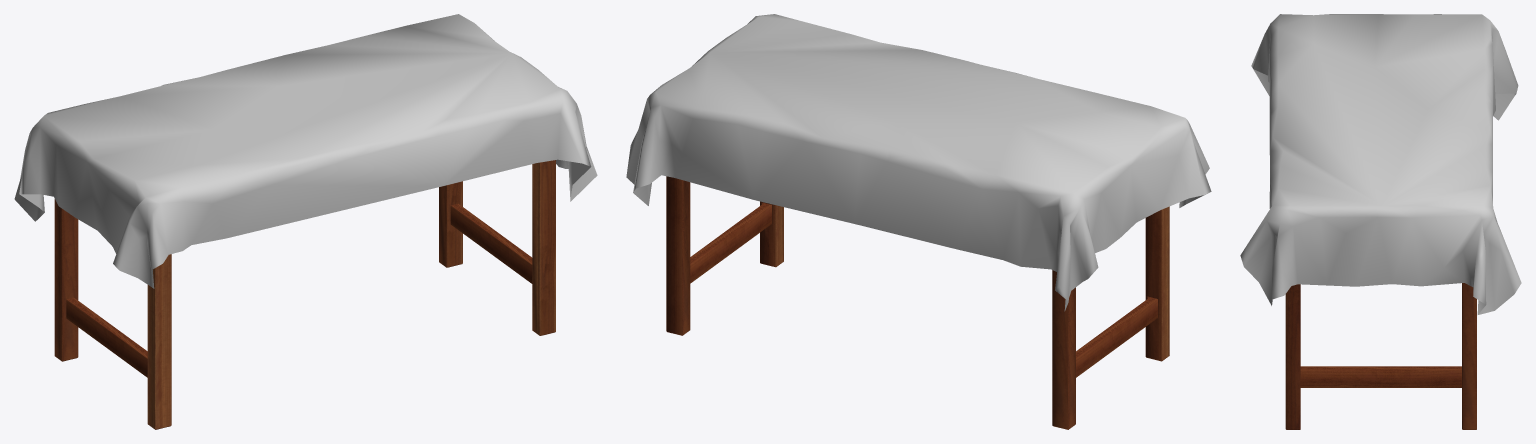
The model's file is Table_Tablecloth.FBX.
3 renders of one model, left to right at view 1: azimuth 30°, elevation 25°; view 2: azimuth 150°, elevation 25°; view 3: azimuth 270°, elevation 25°, orthographic. The views are drawn at different scales.
Parts seen in each view (by area): view 1: Table_Cloth; view 2: Table_Cloth; view 3: Table_Cloth.
Boxes of the visible parts, x1,y1,x2,y2 form: Table_Cloth: (14,14,597,429); Table_Cloth: (626,14,1211,429); Table_Cloth: (1240,14,1521,429).
Size of the model in its own units: 79.07 by 38.11 by 42.65.
